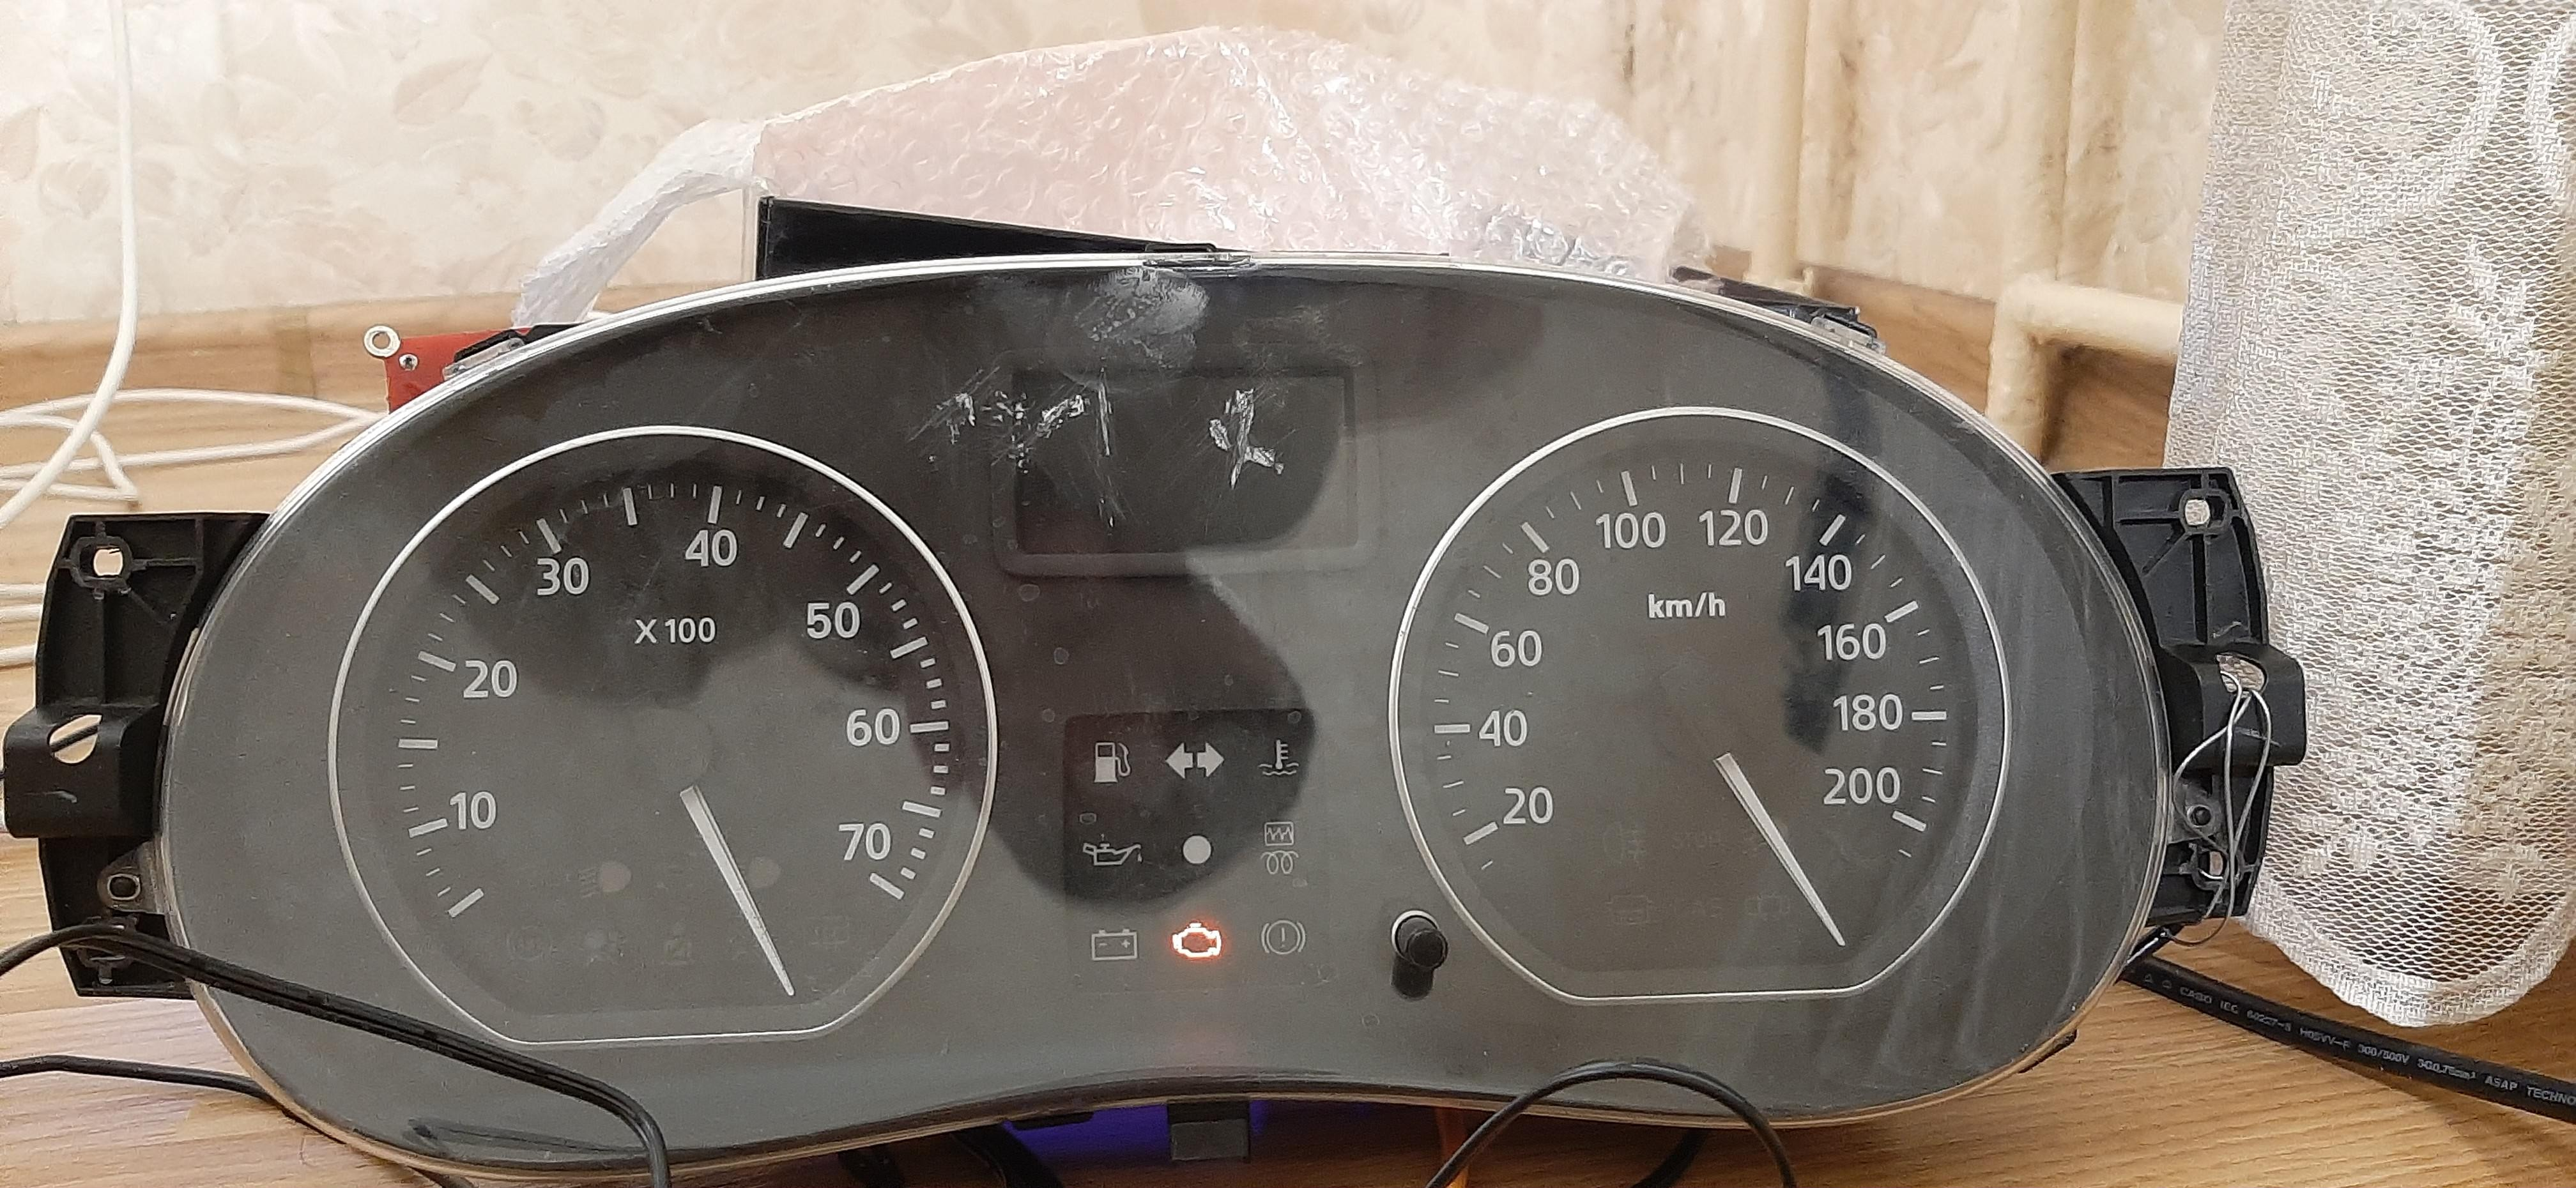engine5: (1170, 922, 1226, 960)
